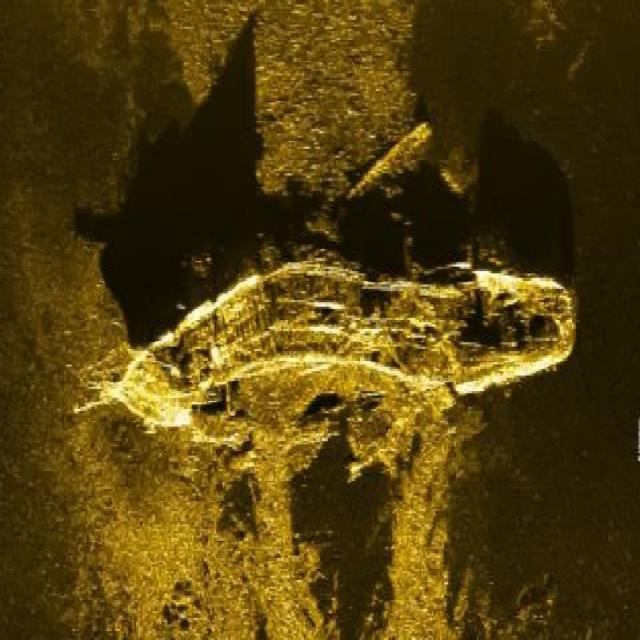shipwreck: (80, 249, 586, 442)
